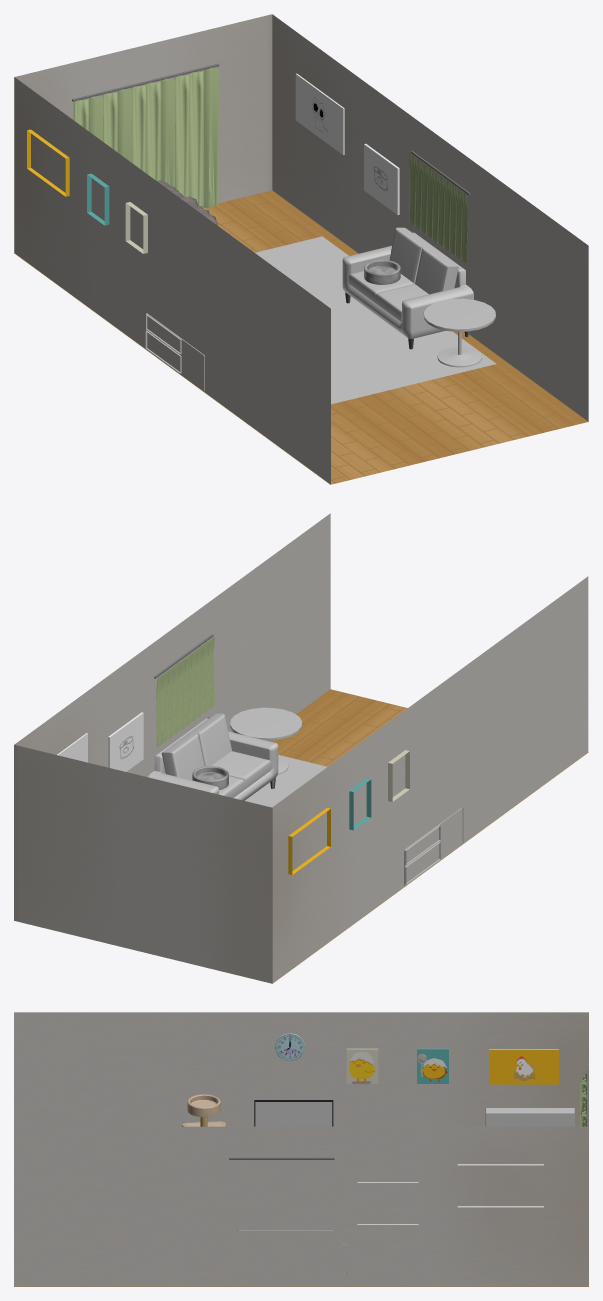
The model's file is Room.fbx.
3 views of the same model, one above another, from view 1: azimuth 30°, elevation 25°; view 2: azimuth 150°, elevation 25°; view 3: azimuth 270°, elevation 25° (orthographic). The views are drawn at different scales.
Parts seen in each view (by area): view 1: Wall, Floor, Curtain_1, Carpet, Cushion, Curtain_2, Sofa, Table, Art_5, Art_4, CatBed, CurtainRail (+1 smaller); view 2: Wall, Floor, Cushion, Curtain_2, Sofa, Table, Carpet, Art_4, Art_3, CatBed; view 3: Wall, Art_3, Screen, BedFrame, Art_1, Art_2, CatTower_1, Clock, Floor, CurtainRail.
Boxes of the visible parts, box(x1,y1,x2,y2) form: Wall: box(14, 14, 588, 484); Floor: box(14, 190, 588, 484); Curtain_1: box(73, 66, 219, 208); Carpet: box(255, 236, 496, 404); Cushion: box(349, 227, 458, 322); Curtain_2: box(409, 153, 467, 263); Sofa: box(342, 231, 473, 338); Table: box(423, 298, 495, 367); Art_5: box(295, 73, 344, 154); Art_4: box(364, 143, 399, 214); CatBed: box(364, 259, 400, 284); CurtainRail: box(72, 63, 470, 195); Wall: box(14, 513, 588, 983); Floor: box(268, 689, 588, 983); Cushion: box(161, 713, 271, 797); Curtain_2: box(156, 637, 214, 747); Sofa: box(148, 717, 278, 800); Table: box(230, 707, 302, 774); Carpet: box(245, 755, 327, 807); Art_4: box(108, 712, 143, 771); Art_3: box(288, 808, 330, 874); CatBed: box(192, 766, 228, 790); Wall: box(14, 1012, 588, 1286); Art_3: box(489, 1049, 558, 1084); Screen: box(255, 1102, 332, 1126); BedFrame: box(485, 1108, 574, 1126); Art_1: box(346, 1048, 378, 1083); Art_2: box(417, 1048, 448, 1083); CatTower_1: box(187, 1094, 220, 1117); Clock: box(275, 1033, 304, 1060); Floor: box(14, 1286, 588, 1286); CurtainRail: box(229, 1070, 588, 1159).
Bounding box in the file's own units: 10.35 × 6.58 × 21.44.
